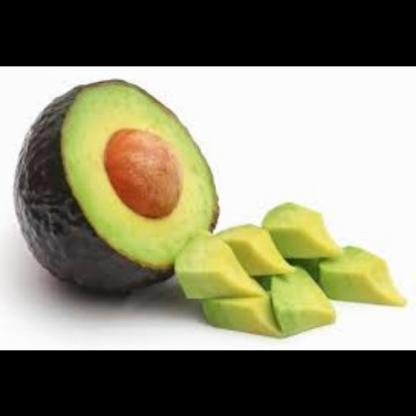avocado: (7, 69, 216, 294), (173, 206, 407, 344)
